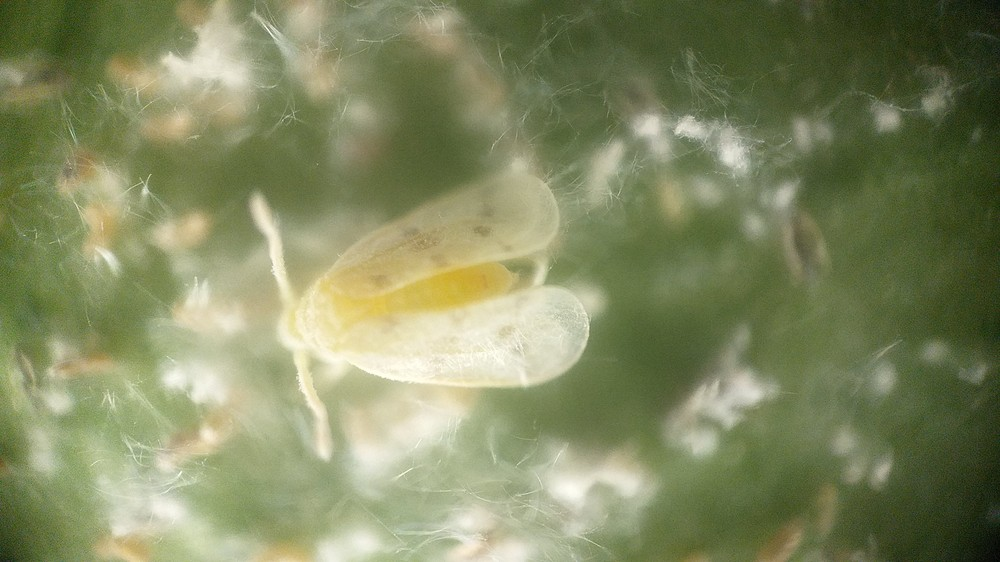Mosca Blanca: (216, 154, 623, 463)
